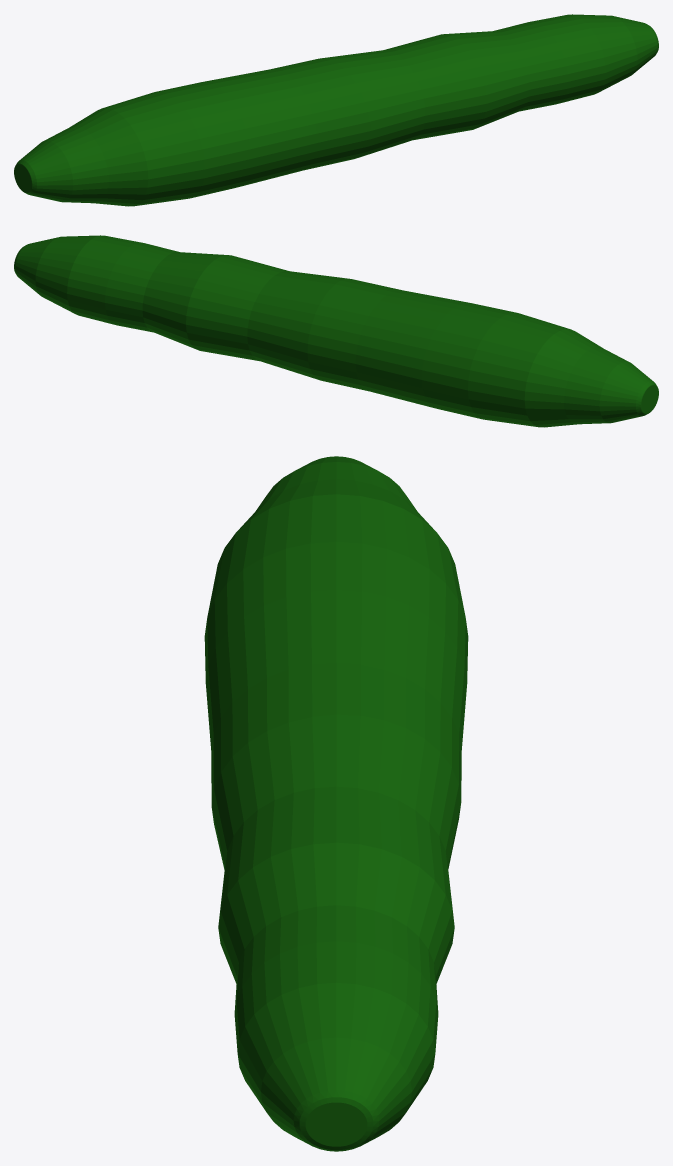
Rendered from Timun.fbx.
3 views of the same model, one above another, from view 1: azimuth 30°, elevation 25°; view 2: azimuth 150°, elevation 25°; view 3: azimuth 270°, elevation 25° (orthographic). The views are drawn at different scales.
Visible parts, largest first — view 1: Sphere; view 2: Sphere; view 3: Sphere.
Boxes of the visible parts, <box> form: Sphere: <box>14,14,658,206</box>; Sphere: <box>14,235,658,427</box>; Sphere: <box>204,456,468,1151</box>.
Size of the model in its own units: 197 by 29.03 by 35.78.
